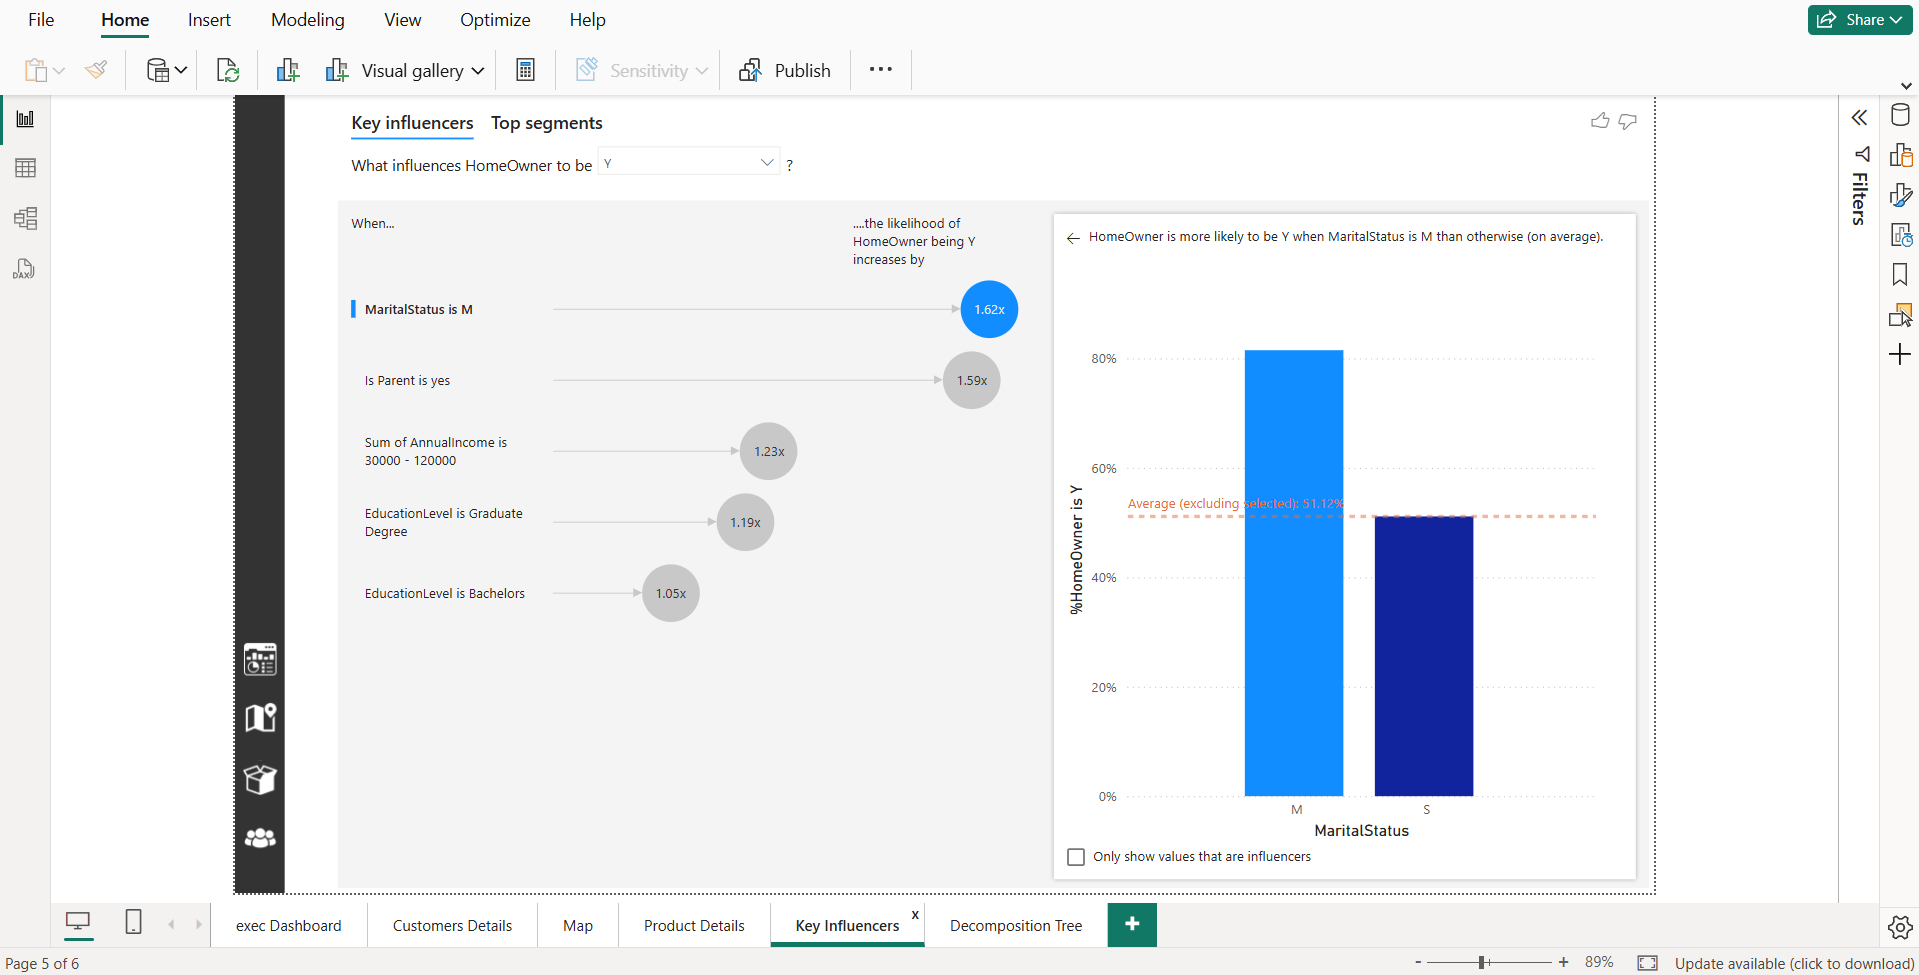

Layout of this report page (visuals, bound fields, positions):
{"tool":"powerbi","page":{"name":"Key Influencers","canvas":[1280,720],"ordinal":4},"visuals":[{"type":"keyDriversVisual","fields":{"Target":["Customer Lookup.HomeOwner"],"ExplainBy":["Sum(Customer Lookup.AnnualIncome)","Customer Lookup.EducationLevel","Customer Lookup.Is Parent","Customer Lookup.MaritalStatus"]},"box":[88,0,1192.3,720.2],"z":0},{"type":"actionButton","box":[0,489.1,45.2,39.1],"z":0,"group":"g1"},{"type":"shape","title":"left nav","box":[0,0,45,720],"z":1},{"type":"group","id":"g1","title":"navigation buttons","box":[0,489.1,45.2,200.5],"z":2},{"type":"actionButton","box":[0,542.9,45.2,39.1],"z":1000,"group":"g1"},{"type":"actionButton","box":[0,650.5,45.2,39.1],"z":2000,"group":"g1"},{"type":"actionButton","box":[0,596.7,45.2,39.1],"z":3000,"group":"g1"}]}

Visuals, with their boxes on the page's 1280x720 design canvas (x1, y1, x2, y2). These are canvas units, not pixel positions in the 1919x975 screenshot, which may show the page scaled, cropped or inside an application window:
keyDriversVisual - Customer Lookup.HomeOwner x Sum(Customer Lookup.AnnualIncome): [88, 0, 1280, 720]
actionButton: [0, 489, 45, 528]
"left nav" shape: [0, 0, 45, 720]
"navigation buttons" group: [0, 489, 45, 690]
actionButton: [0, 543, 45, 582]
actionButton: [0, 650, 45, 690]
actionButton: [0, 597, 45, 636]
